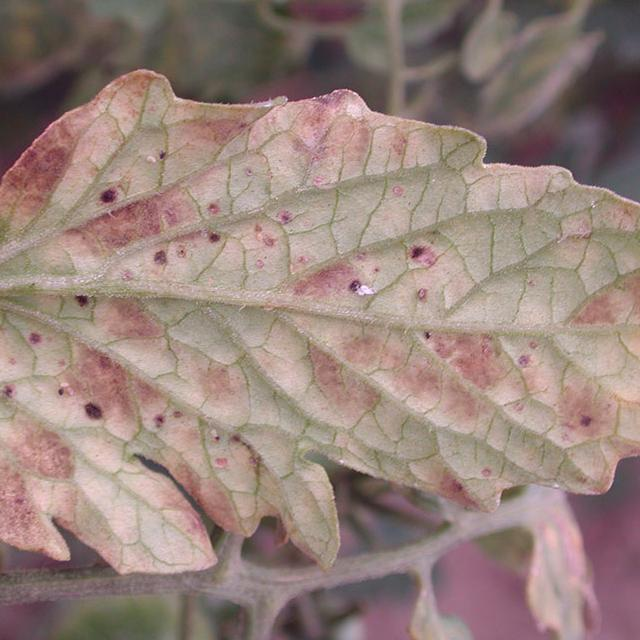Tomato mold leaf: (0, 44, 640, 613)
